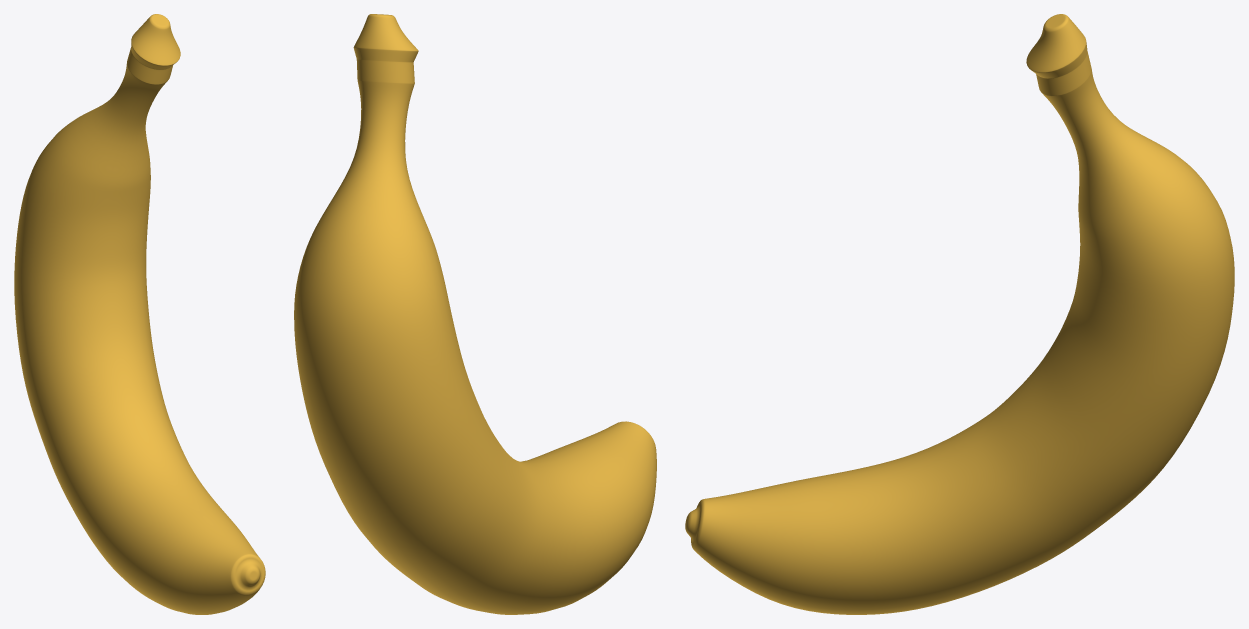
File: Banana1.fbx
The picture shows the model from 3 angles, left to right: view 1: azimuth 30°, elevation 25°; view 2: azimuth 150°, elevation 25°; view 3: azimuth 270°, elevation 25°; orthographic projection. The views are drawn at different scales.
Visible parts, largest first — view 1: Cube.008; view 2: Cube.008; view 3: Cube.008.
Boxes of the visible parts, bbox=[...] form: Cube.008: bbox=[14, 14, 265, 614]; Cube.008: bbox=[294, 14, 656, 614]; Cube.008: bbox=[685, 14, 1234, 614].
Bounding box in the file's own units: 211 × 741 × 587.
